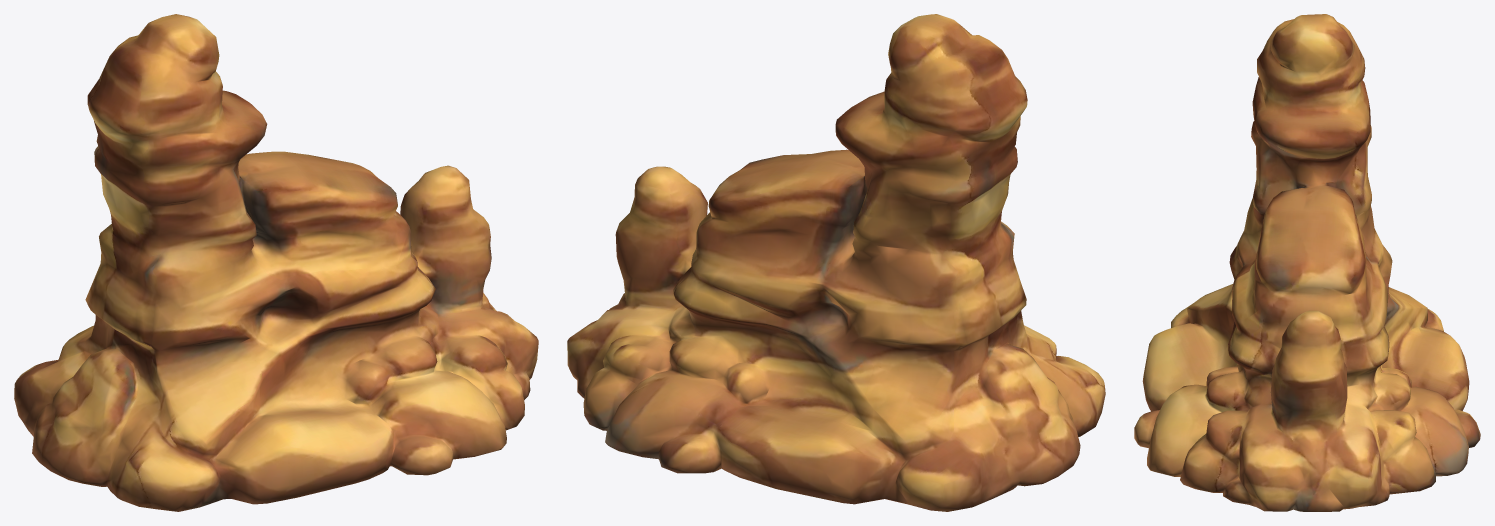
Rendered from SM_Env_DesertSandstone.glb.
3 renders of one model, left to right at view 1: azimuth 30°, elevation 25°; view 2: azimuth 150°, elevation 25°; view 3: azimuth 270°, elevation 25°, orthographic. The views are drawn at different scales.
Parts seen in each view (by area): view 1: SM_Env_DesertSandstone_LOD0; view 2: SM_Env_DesertSandstone_LOD0; view 3: SM_Env_DesertSandstone_LOD0.
Boxes of the visible parts, x1=… form: SM_Env_DesertSandstone_LOD0: x1=14, y1=14, x2=538, y2=511; SM_Env_DesertSandstone_LOD0: x1=567, y1=14, x2=1105, y2=511; SM_Env_DesertSandstone_LOD0: x1=1134, y1=14, x2=1480, y2=511.
Bounding box in the file's own units: 3.38 × 2.88 × 2.54.
1 material, 1 textured.
